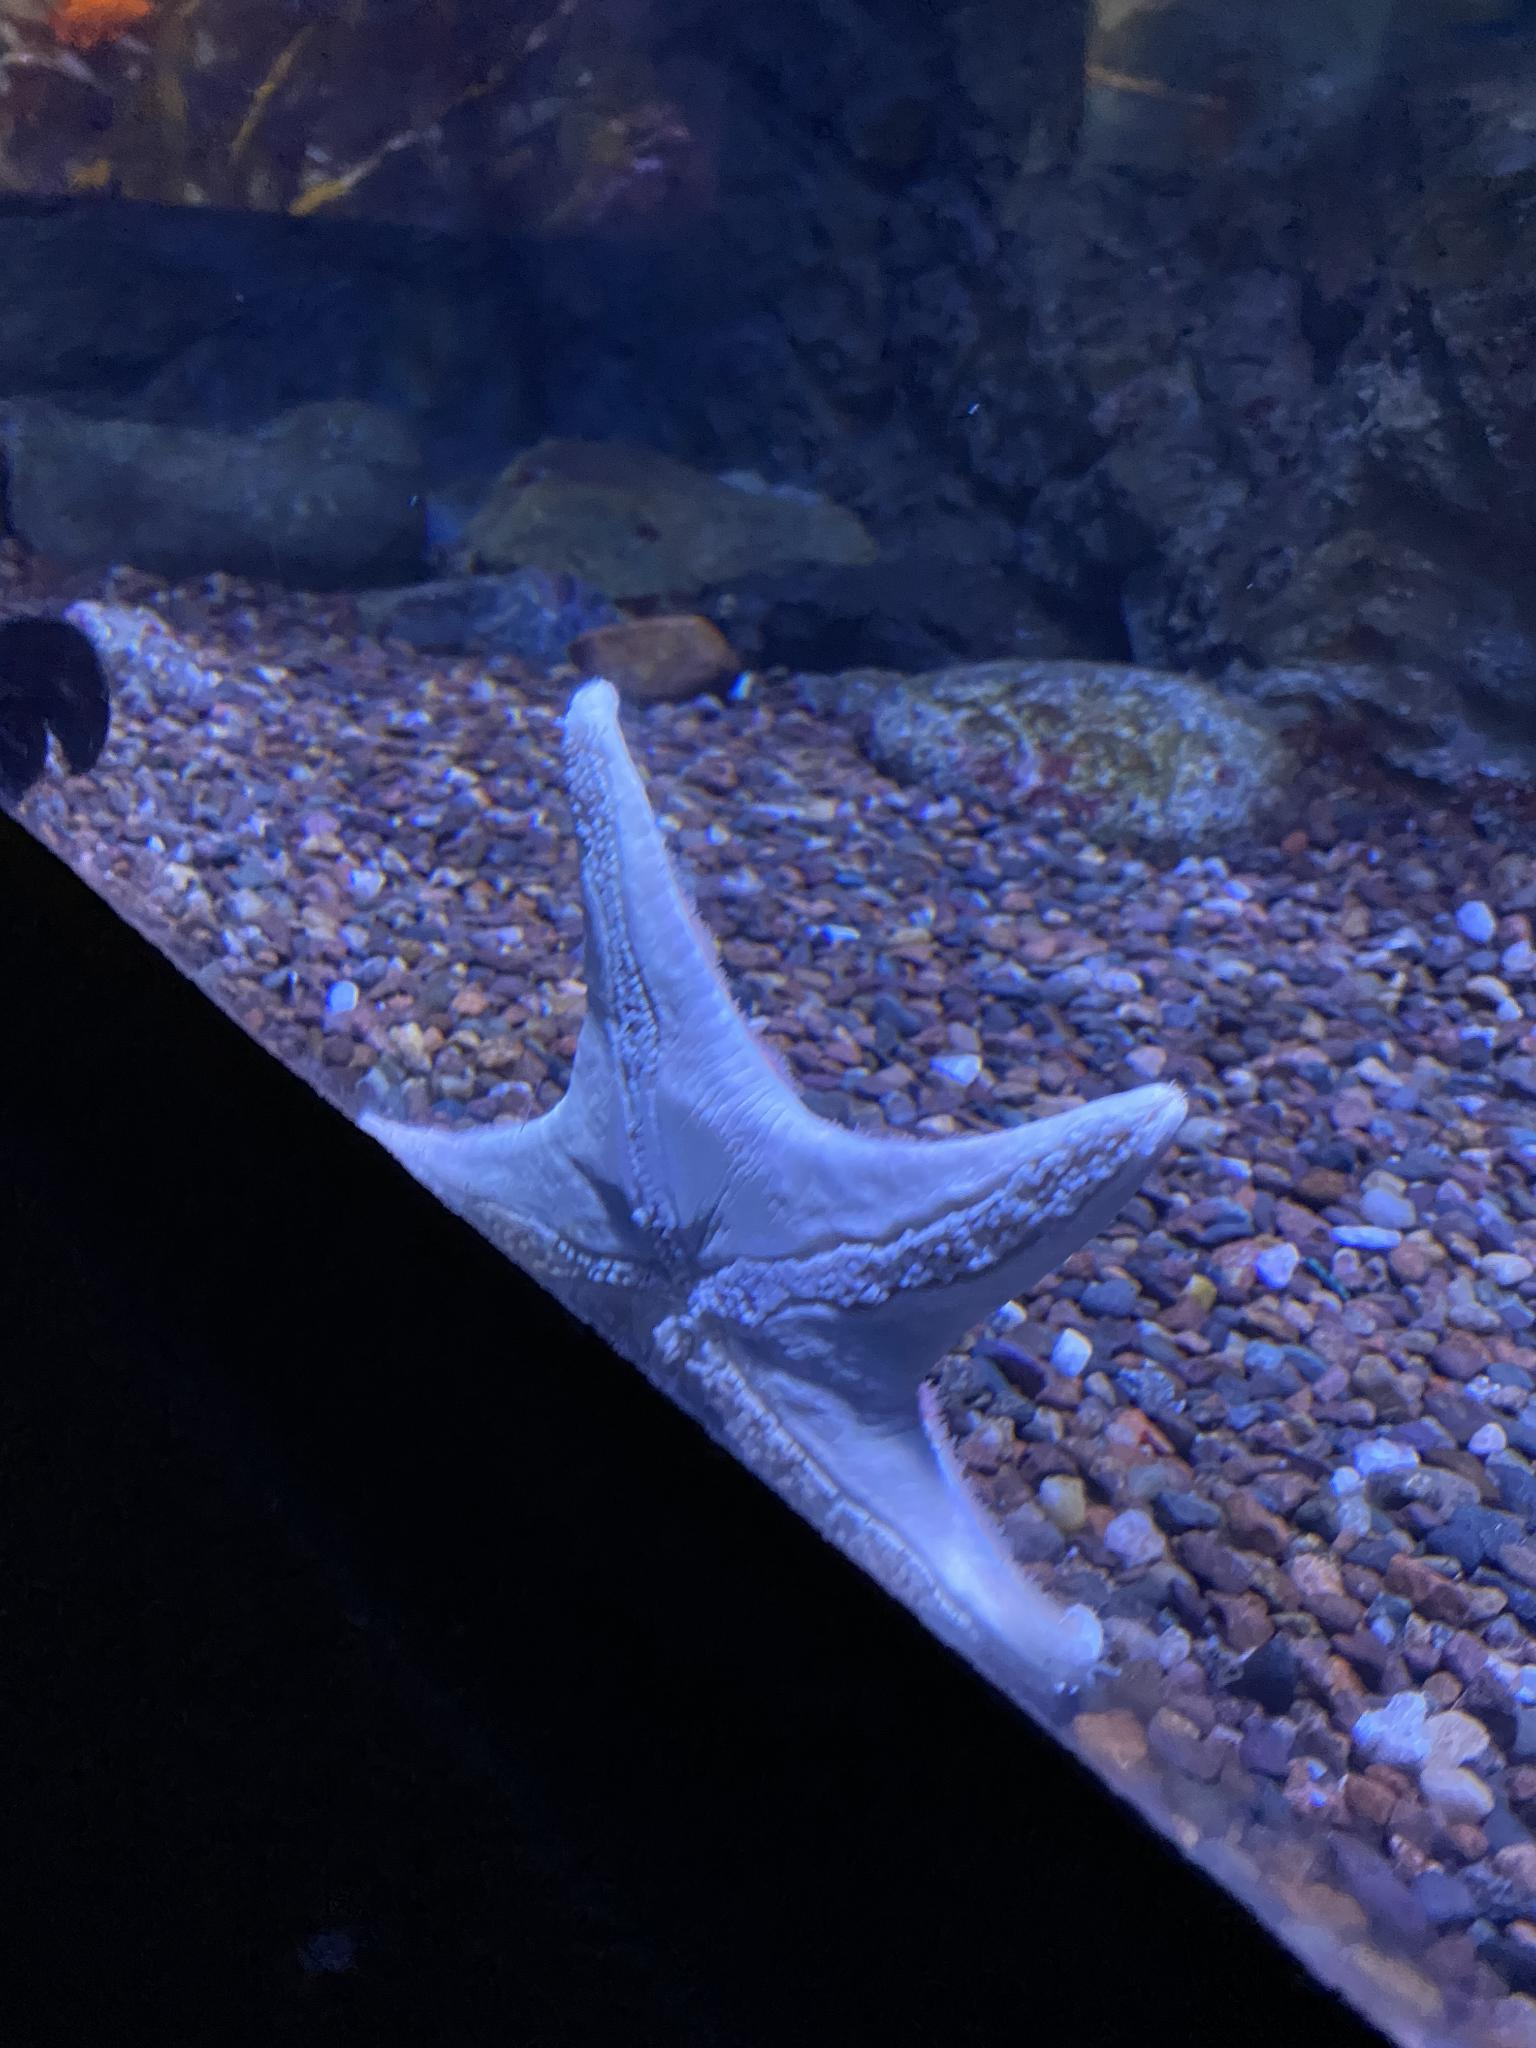starfish: (352, 682, 1191, 1709)
